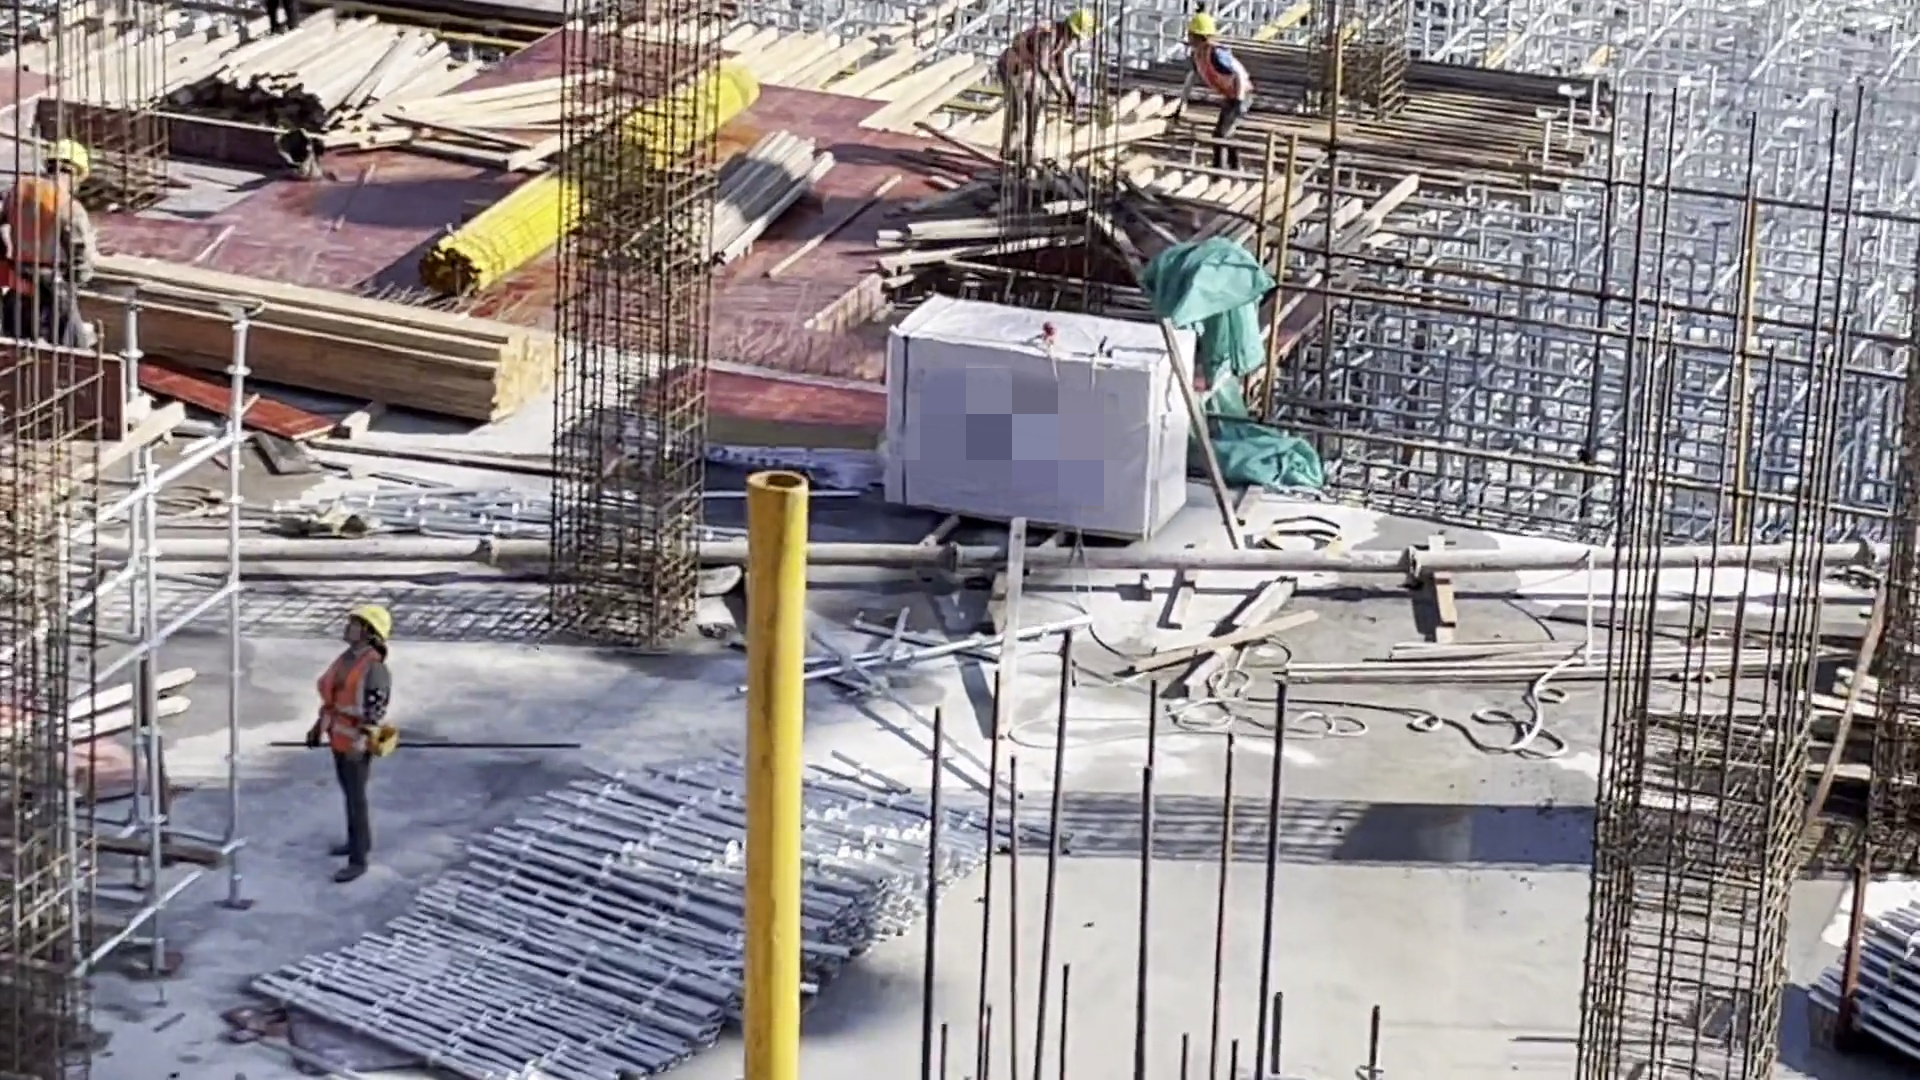helmet: (44, 139, 89, 179), (352, 606, 388, 641), (1067, 10, 1090, 39), (1188, 14, 1215, 36)
person: (313, 611, 398, 883), (1, 139, 97, 350), (1000, 6, 1094, 164), (1188, 14, 1251, 160)
vest: (5, 181, 73, 299), (319, 647, 377, 757), (1194, 46, 1244, 107)
wood: (112, 260, 550, 430), (204, 17, 458, 137)
